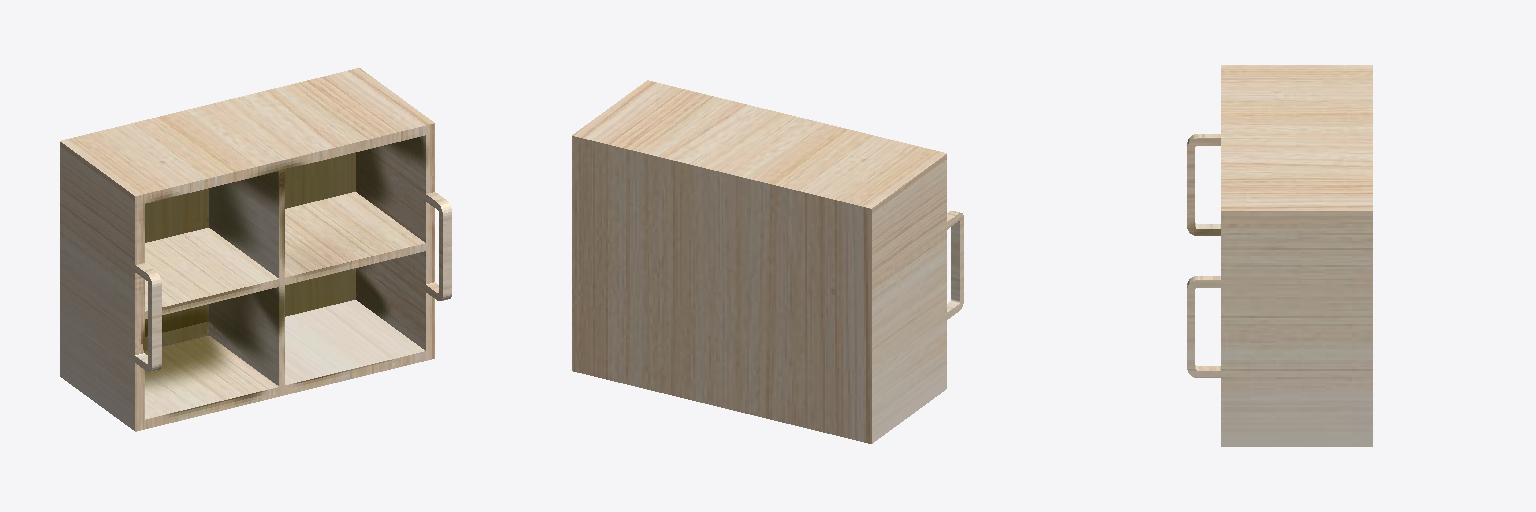
The picture shows the model from 3 angles: view 1: azimuth 30°, elevation 25°; view 2: azimuth 150°, elevation 25°; view 3: azimuth 270°, elevation 25°; orthographic projection.
Parts seen in each view (by area): view 1: wooden_bottle_crate; view 2: wooden_bottle_crate; view 3: wooden_bottle_crate.
Boxes of the visible parts, <box> form: wooden_bottle_crate: <box>60,68,451,431</box>; wooden_bottle_crate: <box>572,80,963,443</box>; wooden_bottle_crate: <box>1187,65,1372,446</box>.
Size of the model in its own units: 42.43 by 31.82 by 22.73.
Materials: 1 (1 with a texture image).